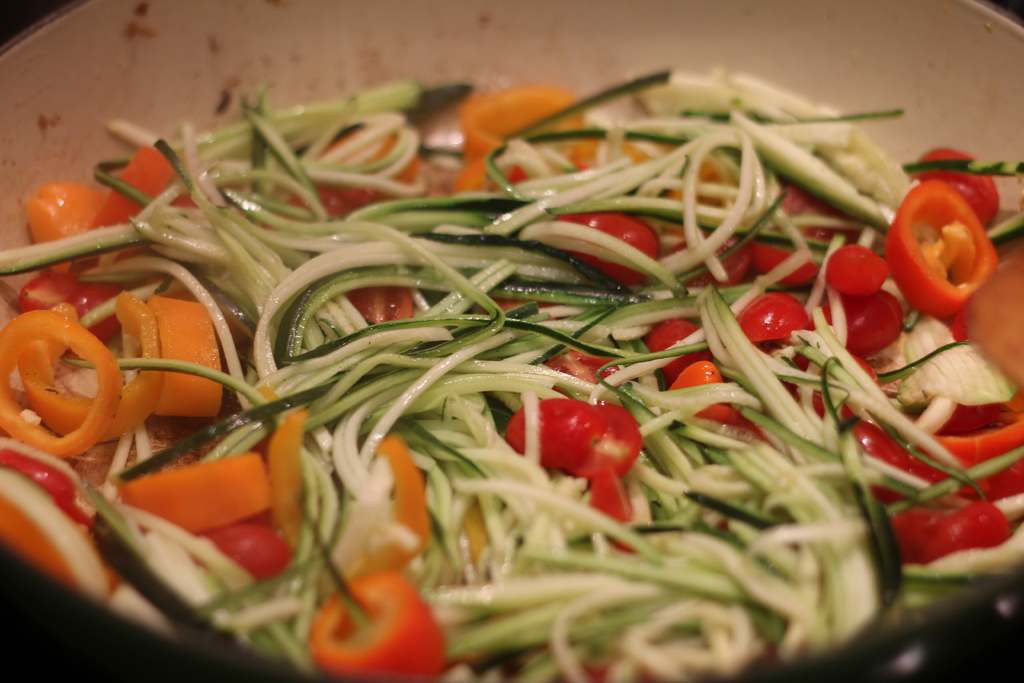Tomato: (901, 181, 980, 312)
